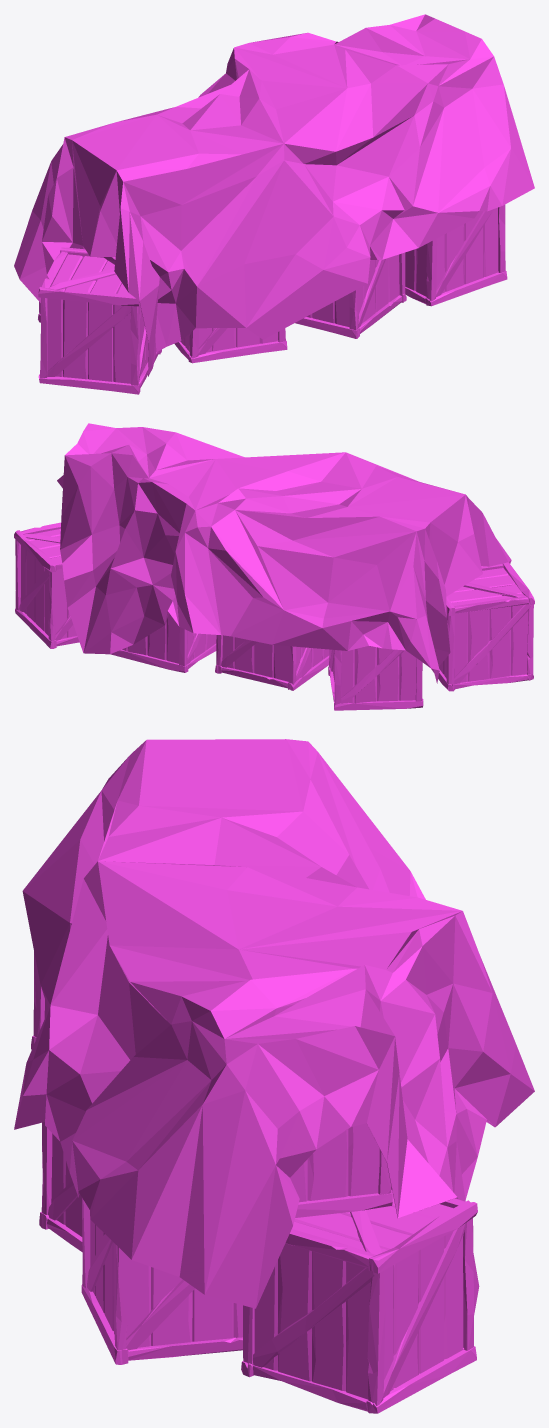
File: SM_Box_Group_Blanket_Big_Fantasy.fbx
3 renders of one model, top to bottom at view 1: azimuth 30°, elevation 25°; view 2: azimuth 150°, elevation 25°; view 3: azimuth 270°, elevation 25°, orthographic. The views are drawn at different scales.
Visible parts, largest first — view 1: SM_Box_Group_Blanket_Big_Fantasy; view 2: SM_Box_Group_Blanket_Big_Fantasy; view 3: SM_Box_Group_Blanket_Big_Fantasy.
Boxes of the visible parts, x1,y1,x2,y2 form: SM_Box_Group_Blanket_Big_Fantasy: (14,14,534,394); SM_Box_Group_Blanket_Big_Fantasy: (14,423,534,710); SM_Box_Group_Blanket_Big_Fantasy: (14,739,534,1413).
Size of the model in its own units: 5.78 by 2.23 by 3.02.
